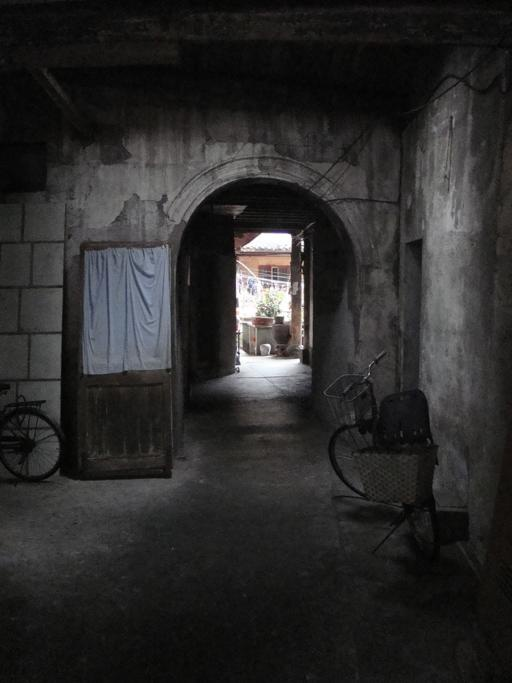non-vehicle: (323, 349, 442, 557)
